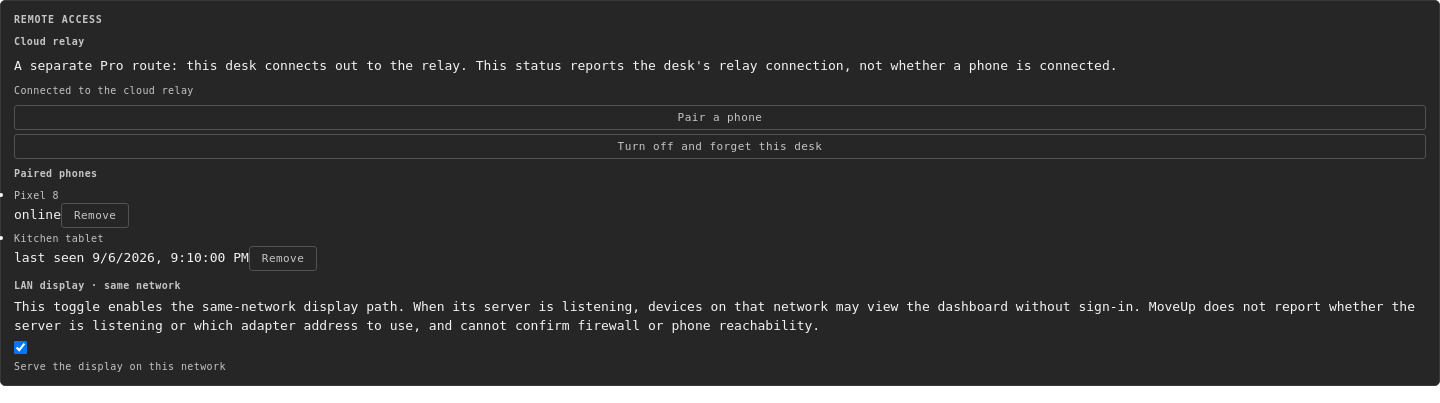
Scenario: RemoteSection — scenario coverage › keeps prior phones withheld through a pending and failed refresh, then reports a successful empty list
expect the text "Pixel 8" is shown: met, box [14,190,59,200]
expect the text "Kitchen tablet" is shown: met, box [14,232,104,244]
Click the button with aria-label "Remove Kitchen tablet" at (283, 258), box [249,246,317,270]
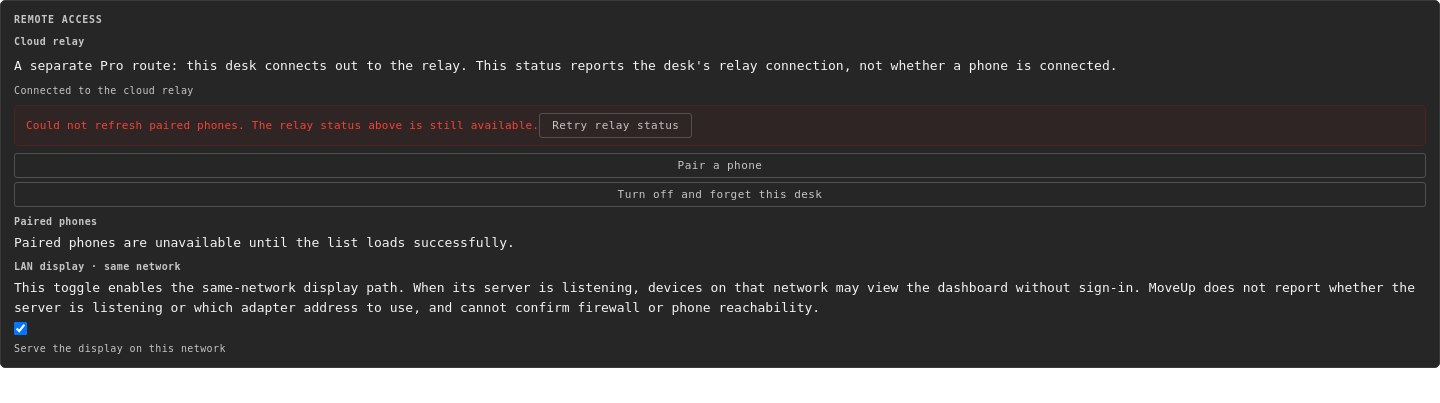
expect the message with test id "relay-status-error" shows "Could not refresh paired phones": met, box [26,118,539,132]
expect the text with test id "paired-devices-unavailable" is shown: met, box [14,234,515,250]
expect the text "Pixel 8" is gone: met
Click the button "Retry relay status" at (616, 125), box [539,112,692,138]
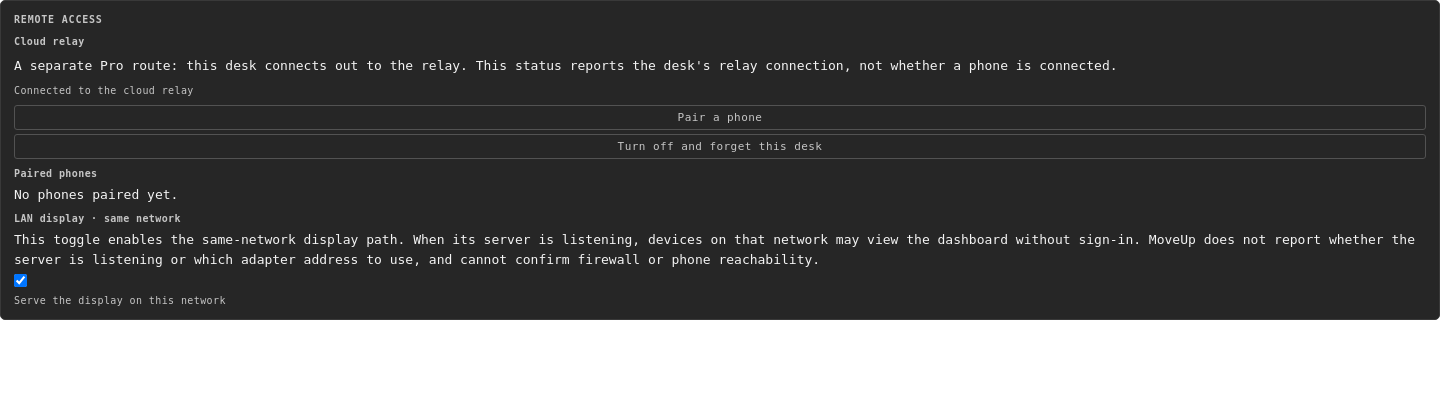
expect the text with test id "relay-state" reads "Connected to the cloud relay": met, box [14,84,194,96]
expect the text "No phones paired yet." is shown: met, box [14,186,178,202]
expect the message with test id "relay-status-error" is gone: met
